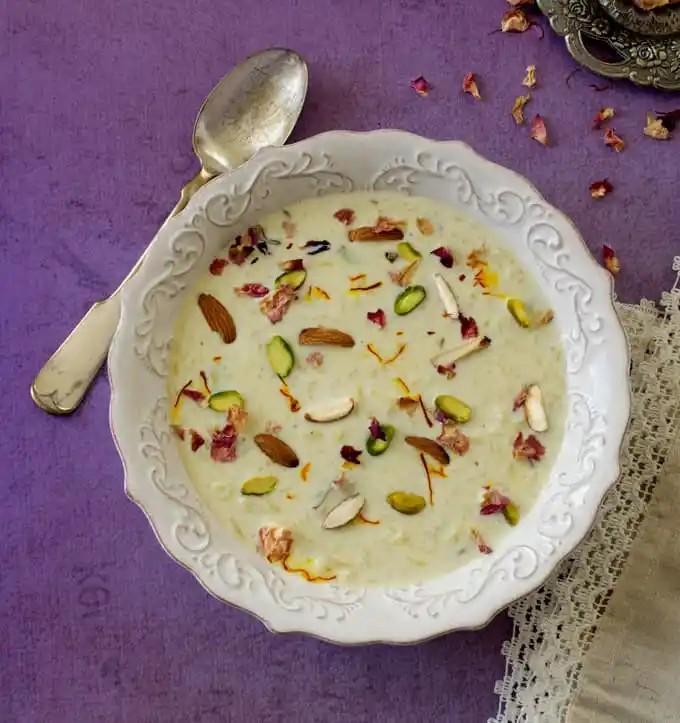Kheer: (175, 190, 563, 582)
